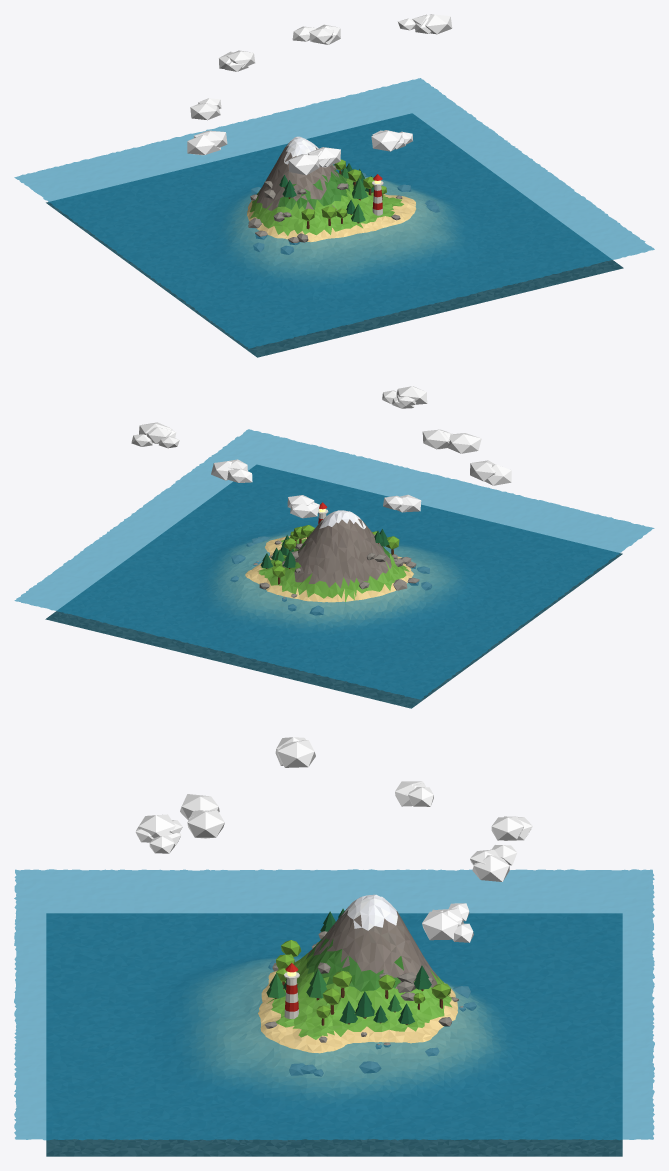
Rendered from low-poly-island.glb.
The picture shows the model from 3 angles, top to bottom: view 1: azimuth 30°, elevation 25°; view 2: azimuth 150°, elevation 25°; view 3: azimuth 270°, elevation 25°; orthographic projection. The views are drawn at different scales.
Parts seen in each view (by area): view 1: water, island, props; view 2: water, island, props; view 3: water, island, props.
Boxes of the visible parts, x1,y1,x2,y2 form: water: (14, 78, 654, 348); island: (46, 113, 623, 357); props: (187, 14, 452, 254); water: (14, 429, 654, 699); island: (45, 465, 622, 708); props: (131, 386, 511, 615); water: (14, 869, 654, 1140); island: (46, 894, 622, 1156); props: (135, 737, 532, 1076).
Size of the model in its own units: 28.92 by 10.7 by 28.92.
